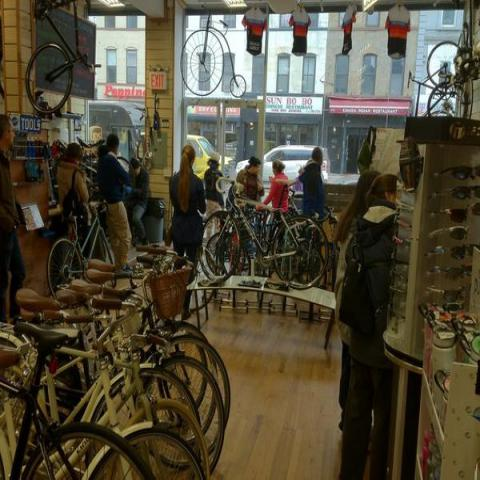car: (235, 145, 333, 183), (185, 136, 222, 178)
truck: (88, 101, 145, 161)
